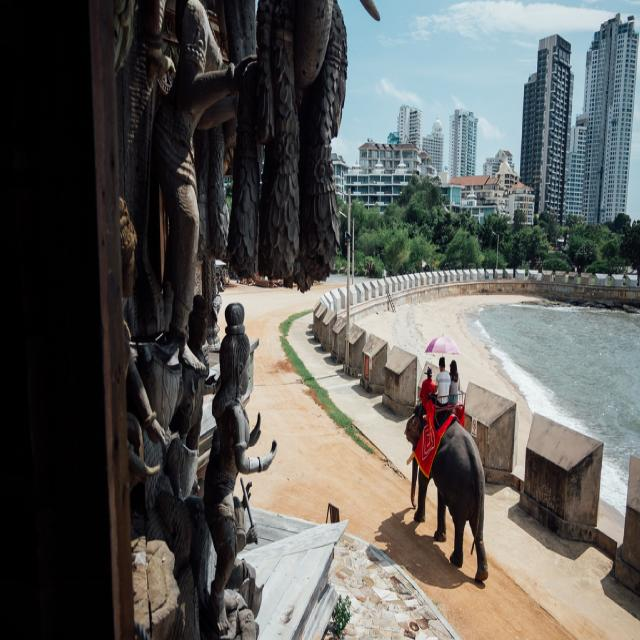elephant: (414, 414, 488, 573)
